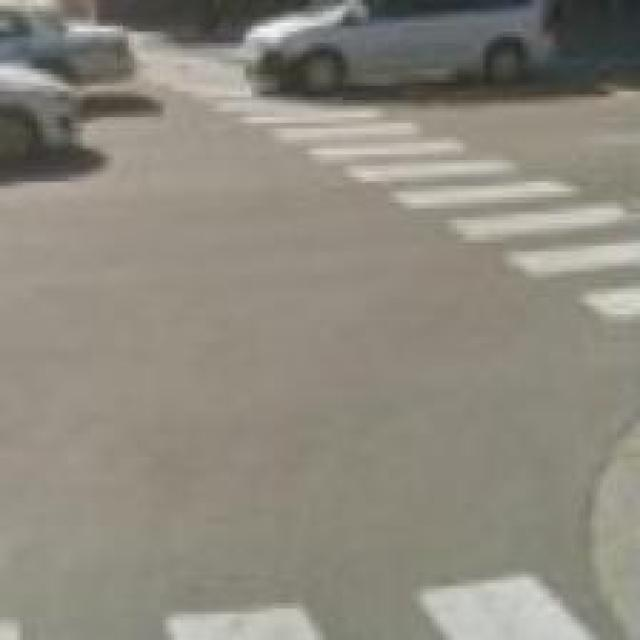walk-crossing: (214, 93, 640, 318), (3, 571, 597, 640)
